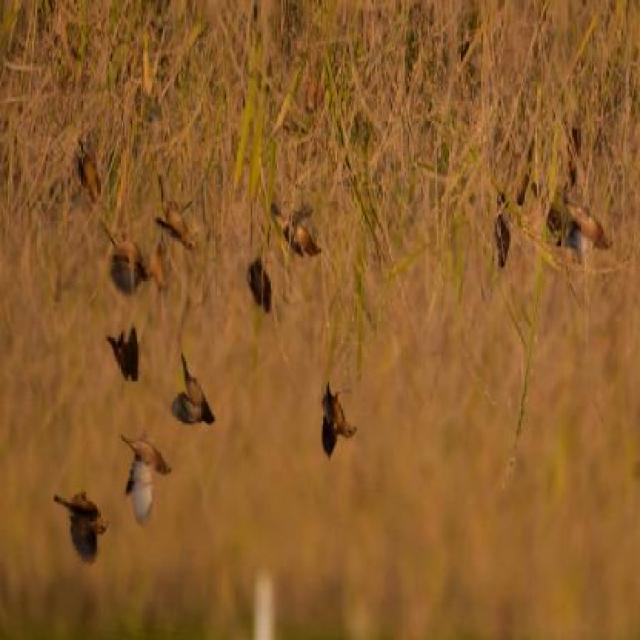Bird: (118, 430, 176, 529), (51, 486, 113, 568), (168, 350, 218, 427), (267, 200, 325, 262), (318, 378, 361, 461), (565, 197, 620, 253), (153, 192, 199, 252), (105, 321, 143, 386), (107, 232, 147, 293), (75, 137, 106, 206), (246, 254, 276, 315), (492, 194, 513, 271), (146, 233, 169, 293)
